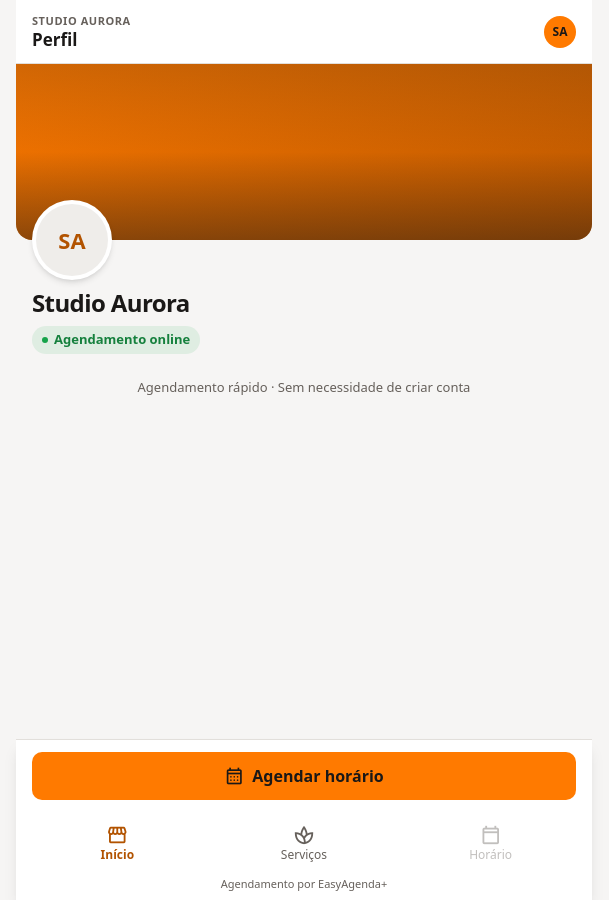
Test case: PublicBookingFlow › mostra erro visível quando falha ao carregar os profissionais
This screenshot has width=609, height=900.
Click the button "Agendar horário": click(304, 776) [32, 752, 576, 800]
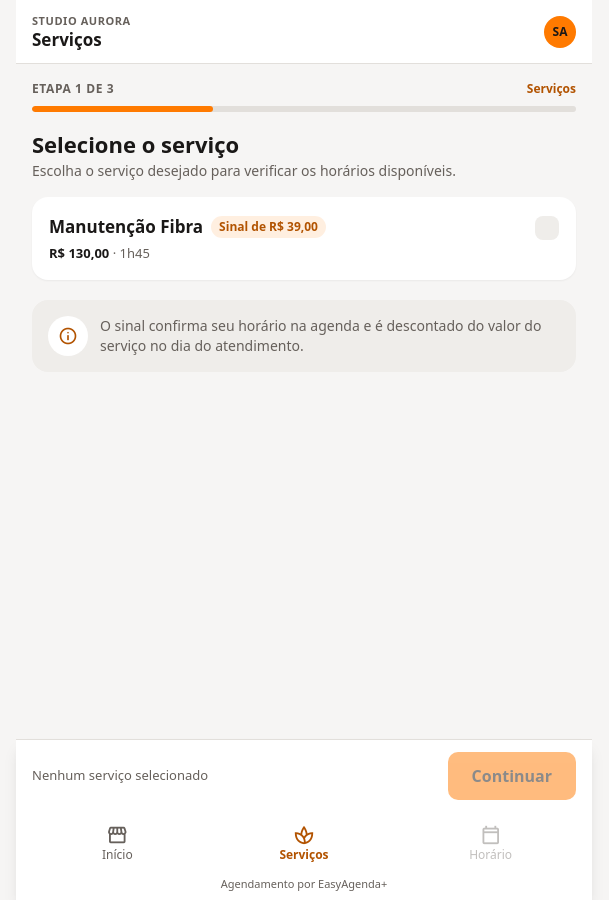
Click the text "Manutenção Fibra": click(126, 227) [49, 214, 203, 240]
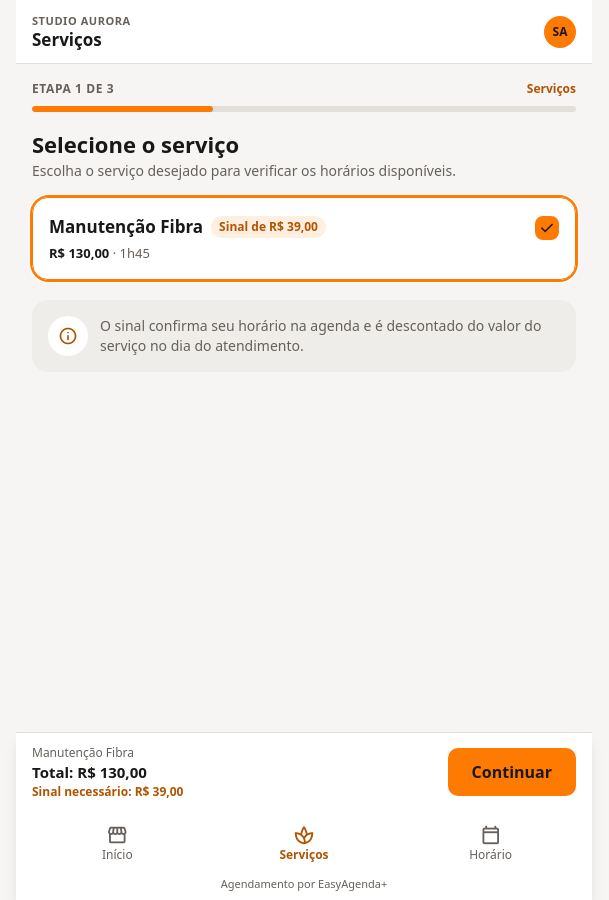
Click the button "Continuar": click(512, 772) [448, 748, 576, 796]
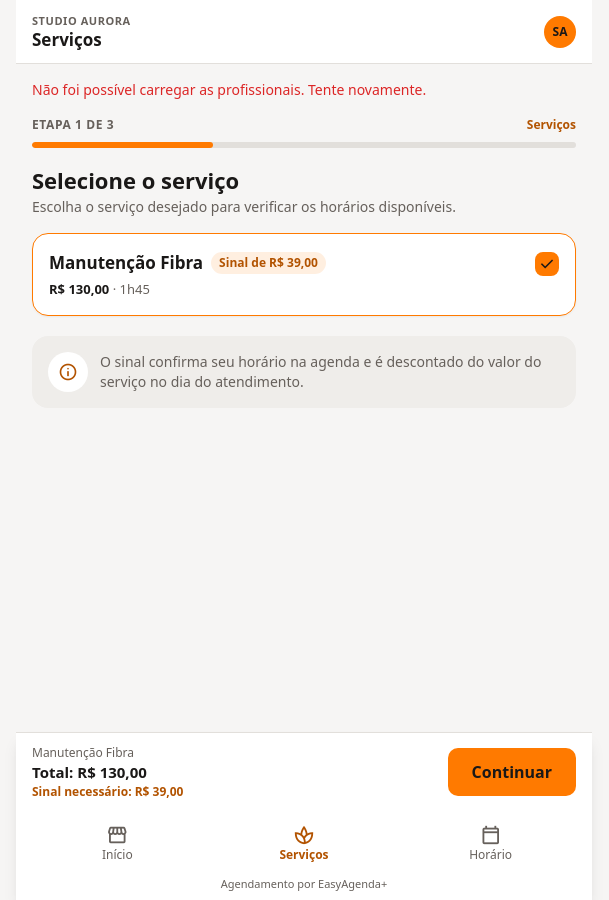
Now the text "Manutenção Fibra" below "Selecione o serviço" is shown, box [49, 251, 203, 274]
Now the message shows "Não foi possível carregar as profissionais", box [32, 80, 426, 99]
